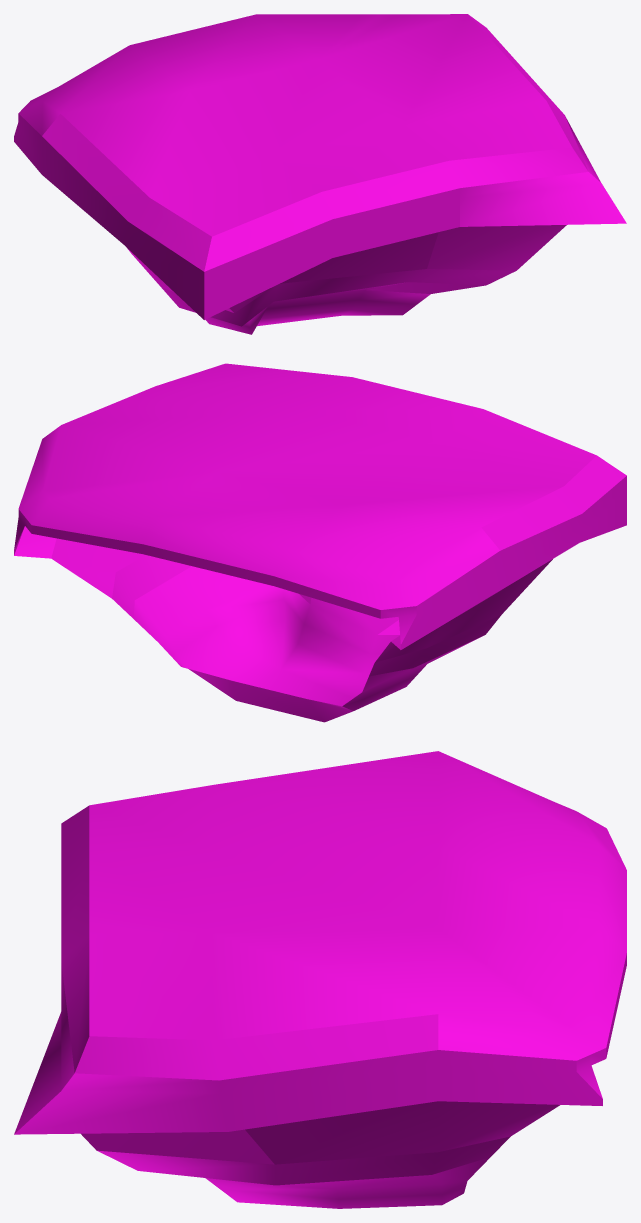
File: Plat2_small_Mesh.FBX
3 views of the same model, one above another, from view 1: azimuth 30°, elevation 25°; view 2: azimuth 150°, elevation 25°; view 3: azimuth 270°, elevation 25° (orthographic). The views are drawn at different scales.
Visible parts, largest first — view 1: Plattform_small2; view 2: Plattform_small2; view 3: Plattform_small2.
Boxes of the visible parts, x1,y1,x2,y2 form: Plattform_small2: (14, 14, 626, 334); Plattform_small2: (14, 363, 626, 722); Plattform_small2: (14, 751, 626, 1208).
Size of the model in its own units: 24 by 11.76 by 21.67.
